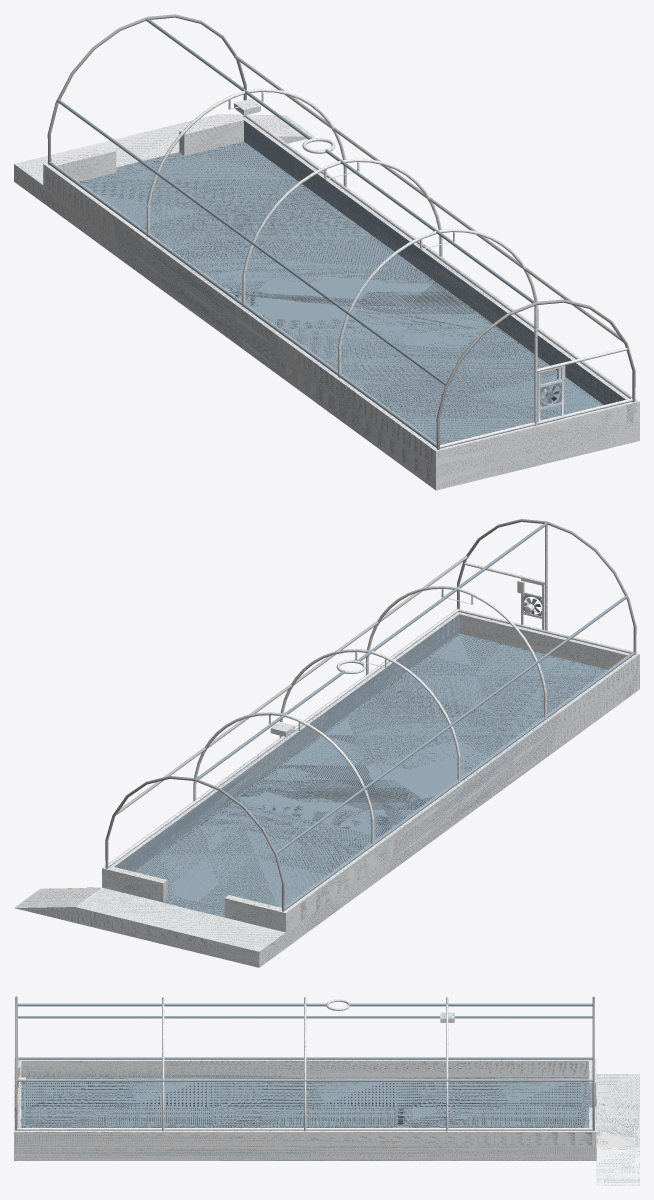
The model's file is Sensorbox11.obj.
3 renders of one model, top to bottom at view 1: azimuth 30°, elevation 25°; view 2: azimuth 150°, elevation 25°; view 3: azimuth 270°, elevation 25°, orthographic. The views are drawn at different scales.
Visible parts, largest first — view 1: Mesh66 Wall Model, Mesh57 Grid2 Floor Model, Mesh55 Grid1 Floor Model, Mesh53 Ramp Model, Mesh59 Grid3 Floor Model, Mesh144 Aluminium1 Model, Mesh61 Floor Model, Mesh151 Aluminium1 Model, Mesh150 Aluminium1 Model, Mesh148 Aluminium1 Model, Mesh140 Aluminium1 Model, Mesh142 Aluminium1 Model (+5 smaller); view 2: Mesh66 Wall Model, Mesh53 Ramp Model, Mesh57 Grid2 Floor Model, Mesh59 Grid3 Floor Model, Mesh55 Grid1 Floor Model, Mesh144 Aluminium1 Model, Mesh61 Floor Model, Mesh151 Aluminium1 Model, Mesh150 Aluminium1 Model, Mesh148 Aluminium1 Model, Mesh145 Aluminium1 Model, Mesh140 Aluminium1 Model (+5 smaller); view 3: Mesh66 Wall Model, Mesh53 Ramp Model, Mesh57 Grid2 Floor Model, Mesh59 Grid3 Floor Model, Mesh55 Grid1 Floor Model, Mesh144 Aluminium1 Model, Mesh61 Floor Model, Mesh148 Aluminium1 Model, Mesh150 Aluminium1 Model, Mesh151 Aluminium1 Model, Mesh153 Aluminium1 Model, Mesh149 Aluminium1 Model (+4 smaller).
Boxes of the visible parts, x1,y1,x2,y2 form: Mesh66 Wall Model: (43, 115, 639, 472); Mesh57 Grid2 Floor Model: (209, 237, 494, 367); Mesh55 Grid1 Floor Model: (84, 146, 368, 275); Mesh53 Ramp Model: (14, 114, 639, 490); Mesh59 Grid3 Floor Model: (334, 329, 600, 444); Mesh144 Aluminium1 Model: (47, 14, 446, 385); Mesh61 Floor Model: (79, 141, 603, 405); Mesh151 Aluminium1 Model: (48, 162, 436, 447); Mesh150 Aluminium1 Model: (243, 115, 635, 399); Mesh148 Aluminium1 Model: (234, 55, 622, 341); Mesh140 Aluminium1 Model: (436, 299, 635, 449); Mesh142 Aluminium1 Model: (440, 366, 632, 448); Mesh66 Wall Model: (102, 609, 639, 932); Mesh53 Ramp Model: (14, 673, 639, 967); Mesh57 Grid2 Floor Model: (236, 719, 491, 836); Mesh59 Grid3 Floor Model: (348, 636, 604, 753); Mesh55 Grid1 Floor Model: (137, 801, 378, 908); Mesh144 Aluminium1 Model: (105, 596, 627, 911); Mesh61 Floor Model: (134, 633, 607, 917); Mesh151 Aluminium1 Model: (284, 652, 635, 910); Mesh150 Aluminium1 Model: (108, 609, 458, 867); Mesh148 Aluminium1 Model: (116, 556, 468, 814); Mesh145 Aluminium1 Model: (193, 712, 374, 846); Mesh140 Aluminium1 Model: (457, 519, 636, 654); Mesh66 Wall Model: (14, 1058, 596, 1147); Mesh53 Ramp Model: (14, 1074, 639, 1185); Mesh57 Grid2 Floor Model: (211, 1078, 395, 1127); Mesh59 Grid3 Floor Model: (25, 1078, 209, 1127); Mesh55 Grid1 Floor Model: (397, 1078, 580, 1127); Mesh144 Aluminium1 Model: (18, 996, 594, 1130); Mesh61 Floor Model: (21, 1077, 596, 1127); Mesh148 Aluminium1 Model: (16, 1079, 592, 1081); Mesh150 Aluminium1 Model: (16, 1128, 593, 1130); Mesh151 Aluminium1 Model: (18, 1057, 592, 1059); Mesh153 Aluminium1 Model: (17, 1003, 327, 1006); Mesh149 Aluminium1 Model: (349, 1003, 592, 1006).
Size of the model in its own units: 16 by 9.13 by 43.
